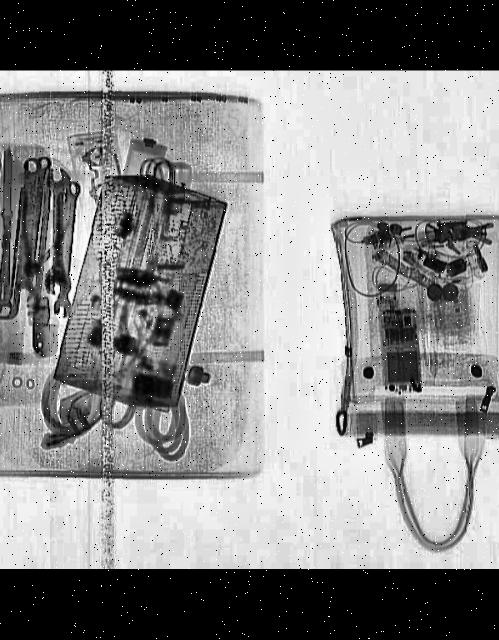Wrench: (47, 182, 82, 321), (10, 158, 41, 304), (42, 170, 70, 294), (0, 209, 11, 314)
